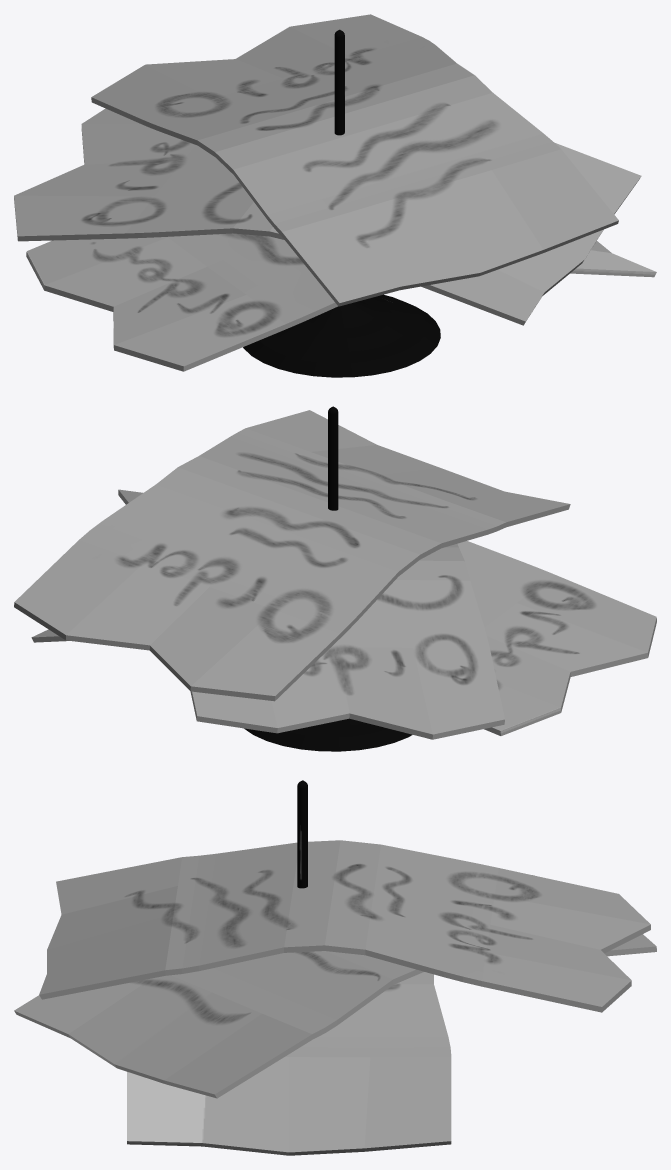
File: Order 1.fbx
3 views of the same model, one above another, from view 1: azimuth 30°, elevation 25°; view 2: azimuth 150°, elevation 25°; view 3: azimuth 270°, elevation 25° (orthographic). The views are drawn at different scales.
Visible parts, largest first — view 1: Plane.006; view 2: Plane.006; view 3: Plane.006.
Part boxes in pixels (x1,y1,x2,y2): Plane.006: [14, 14, 656, 377]; Plane.006: [14, 406, 656, 751]; Plane.006: [14, 780, 656, 1155].
Size of the model in its own units: 7.3 by 7.42 by 4.01.
Materials: 1 (1 with a texture image).
